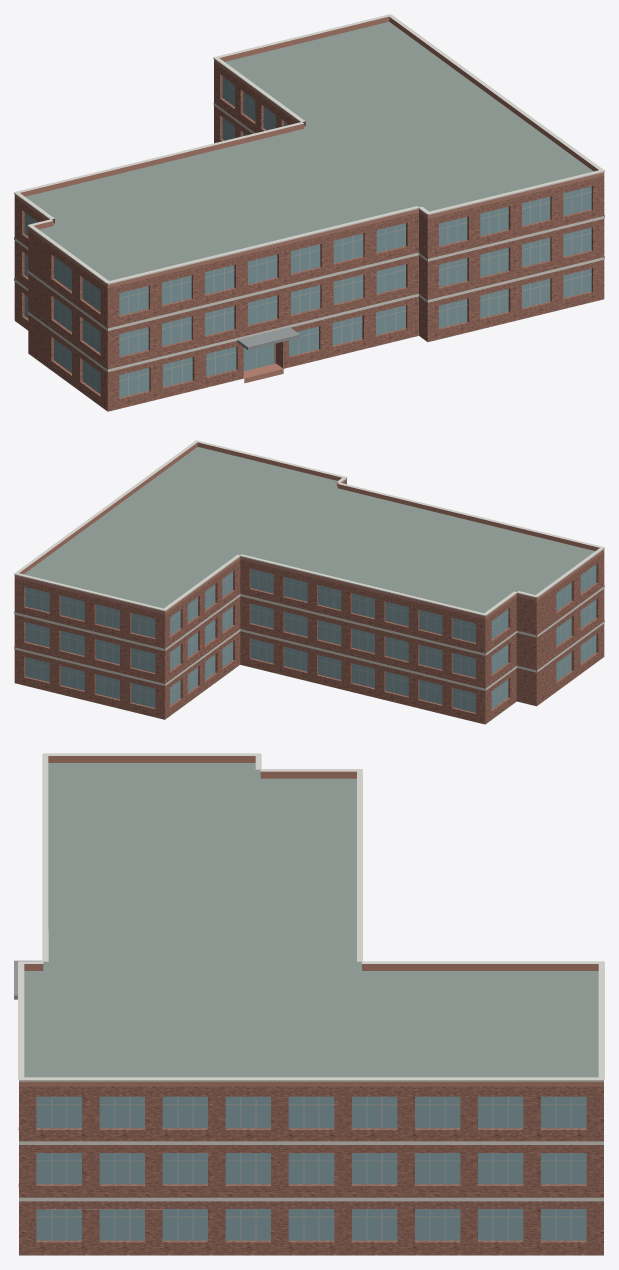
The picture shows the model from 3 angles, top to bottom: view 1: azimuth 30°, elevation 25°; view 2: azimuth 150°, elevation 25°; view 3: azimuth 270°, elevation 25°; orthographic projection. The views are drawn at different scales.
Visible parts, largest first — view 1: pharmacy__roof, pharmacy__wall, pharmacy__glass, pharmacy__trim, pharmacy__parapet, pharmacy__frame, pharmacy__canopy; view 2: pharmacy__roof, pharmacy__wall, pharmacy__glass, pharmacy__trim, pharmacy__parapet, pharmacy__frame; view 3: pharmacy__roof, pharmacy__wall, pharmacy__glass, pharmacy__trim, pharmacy__parapet, pharmacy__frame.
Part boxes in pixels (x1,y1,x2,y2): pharmacy__roof: (15, 22, 603, 411); pharmacy__wall: (14, 63, 604, 411); pharmacy__glass: (24, 76, 591, 397); pharmacy__trim: (14, 14, 604, 371); pharmacy__parapet: (14, 16, 604, 288); pharmacy__frame: (24, 80, 591, 395); pharmacy__canopy: (237, 327, 300, 350); pharmacy__roof: (15, 447, 603, 724); pharmacy__wall: (14, 482, 604, 724); pharmacy__glass: (25, 564, 596, 712); pharmacy__trim: (14, 440, 604, 690); pharmacy__parapet: (14, 442, 604, 619); pharmacy__frame: (25, 567, 596, 710); pharmacy__roof: (19, 763, 603, 1255); pharmacy__wall: (19, 1086, 603, 1255); pharmacy__glass: (36, 1096, 586, 1240); pharmacy__trim: (18, 753, 604, 1201); pharmacy__parapet: (19, 756, 603, 1086); pharmacy__frame: (36, 1096, 586, 1240).
Bounding box in the file's own units: 44.87 × 11.65 × 34.31.
Materials: 9 (1 with a texture image).
